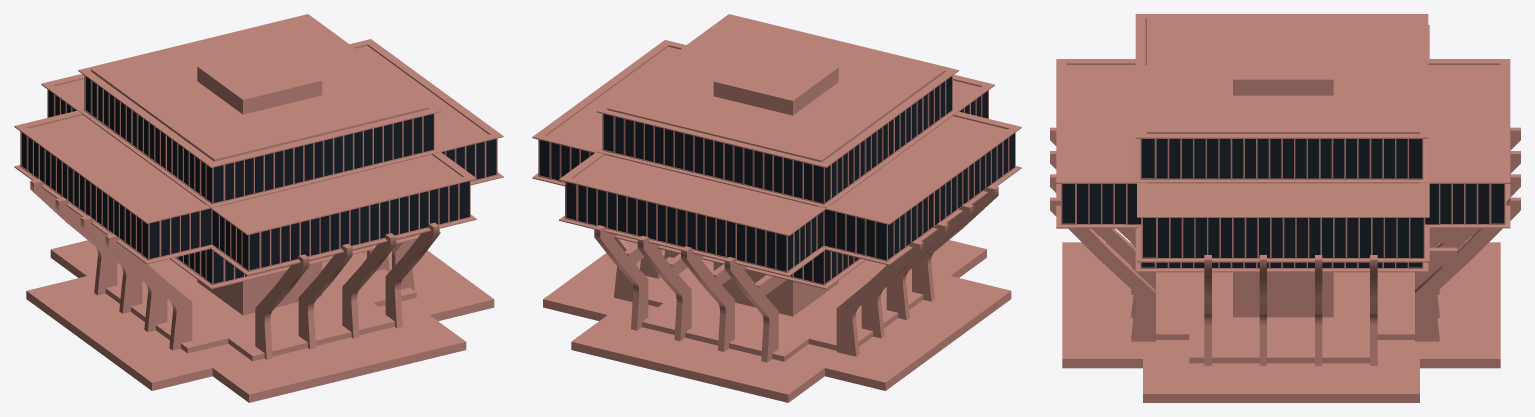
The model's file is Assembly02.fbx.
The picture shows the model from 3 angles, left to right: view 1: azimuth 30°, elevation 25°; view 2: azimuth 150°, elevation 25°; view 3: azimuth 270°, elevation 25°; orthographic projection. The views are drawn at different scales.
Parts seen in each view (by area): view 1: BasicBuildingBlock10x5.035; view 2: BasicBuildingBlock10x5.035; view 3: BasicBuildingBlock10x5.035.
Part boxes in pixels (left/top/right/bottom): BasicBuildingBlock10x5.035: left=14, top=14, right=503, bottom=402; BasicBuildingBlock10x5.035: left=532, top=14, right=1021, bottom=402; BasicBuildingBlock10x5.035: left=1050, top=14, right=1520, bottom=402.
Size of the model in its own units: 4662 by 2762 by 4662.
